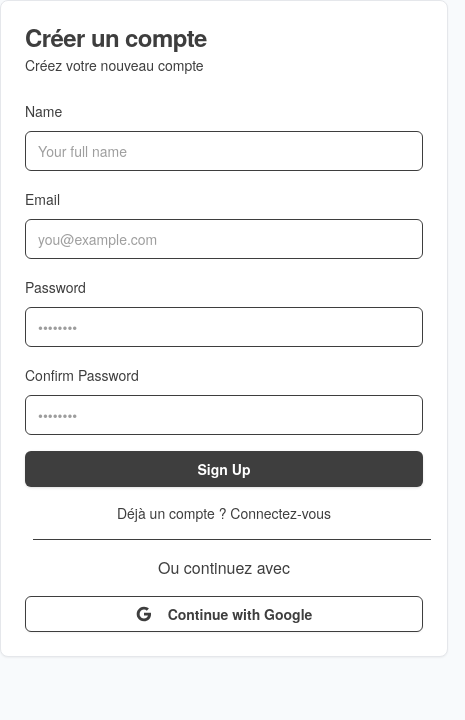
it: SignUpForm Component › Form Submission › should show error message when signup fails
Type "John Doe" into the field labelled "Name" at (224,151), box [25,131,423,171]
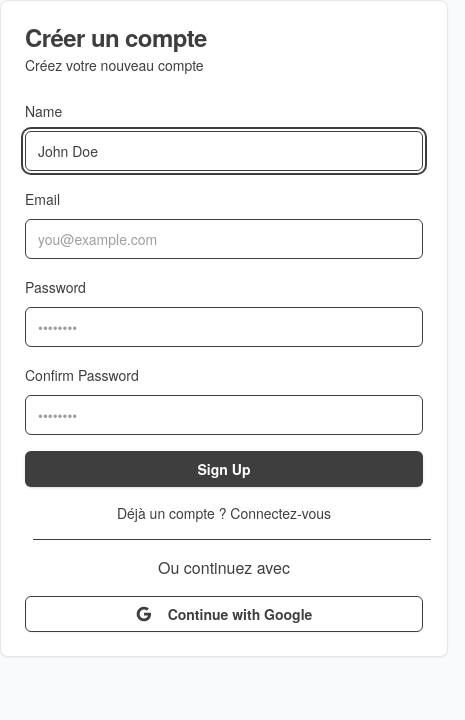
Type "john@example.com" into the field labelled "Email" at (224,239), box [25,219,423,259]
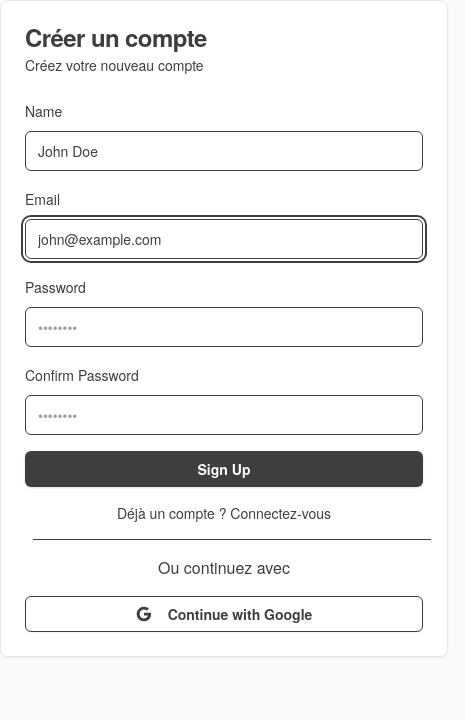
Type "Password123" into the password field labelled "Password" at (224,327), box [25,307,423,347]
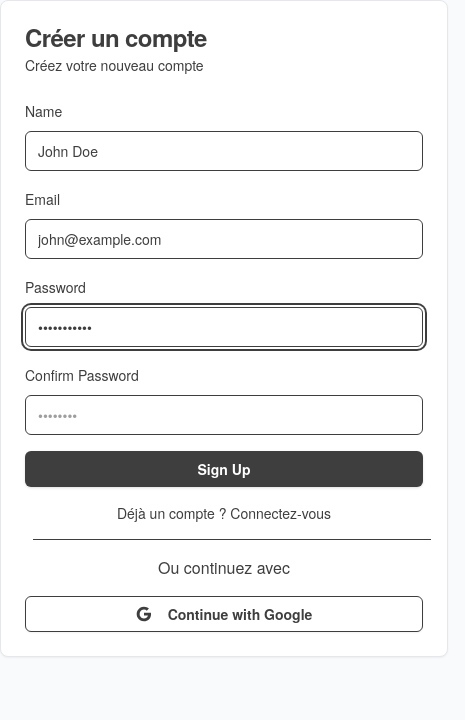
Type "Password123" into the password field labelled "Confirm Password" at (224,415), box [25,395,423,435]
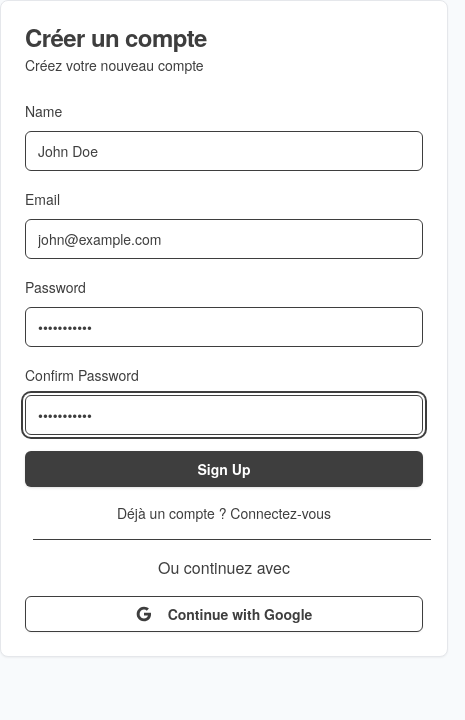
Click the button "Sign Up" at (224,469), box [25,451,423,487]
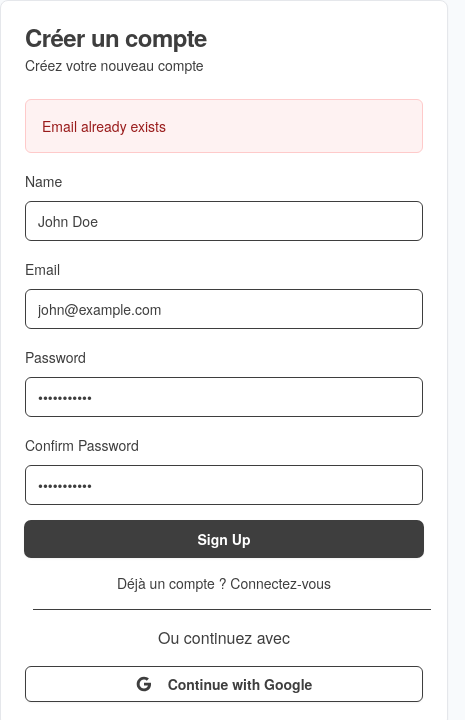
Expected: the button "Sign Up" is enabled, [25,521,423,557]
Result: the text "Email already exists" is shown at [25,99,423,153]
